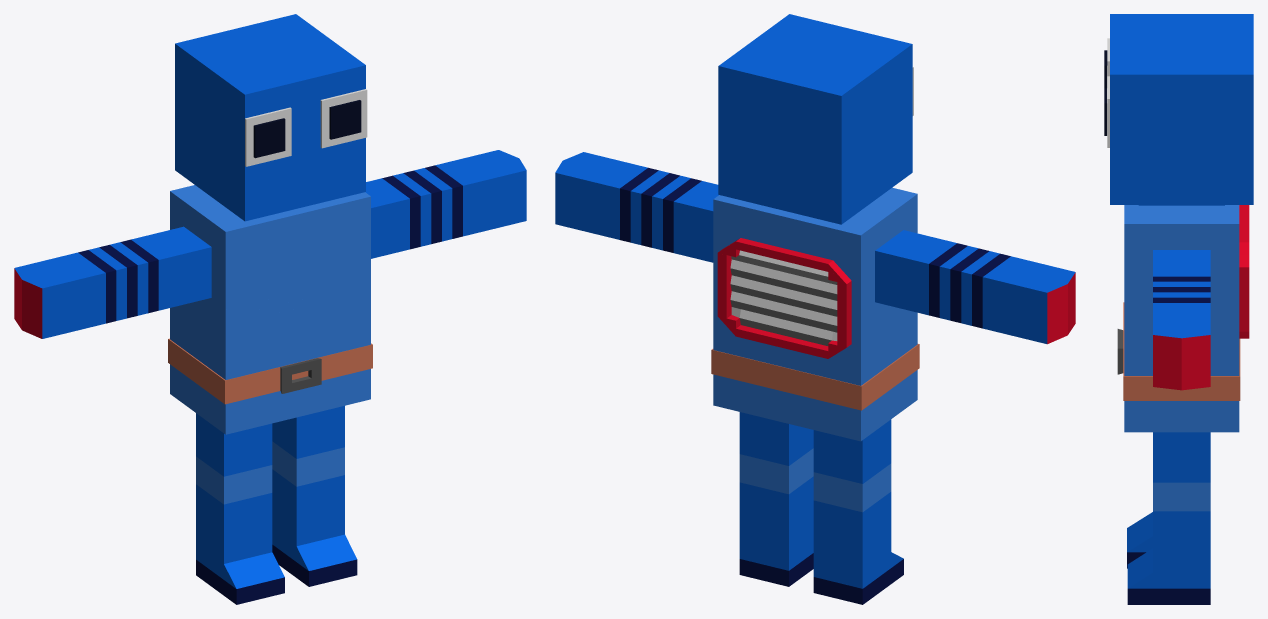
File: Robot.glb
The picture shows the model from 3 angles, left to right: view 1: azimuth 30°, elevation 25°; view 2: azimuth 150°, elevation 25°; view 3: azimuth 270°, elevation 25°; orthographic projection. The views are drawn at different scales.
Parts seen in each view (by area): view 1: Cube; view 2: Cube; view 3: Cube.
Boxes of the visible parts, x1=… form: Cube: x1=14, y1=14, x2=526, y2=604; Cube: x1=555, y1=14, x2=1075, y2=604; Cube: x1=1104, y1=14, x2=1253, y2=604.
Size of the model in its own units: 20.53 by 20.37 by 5.2.
